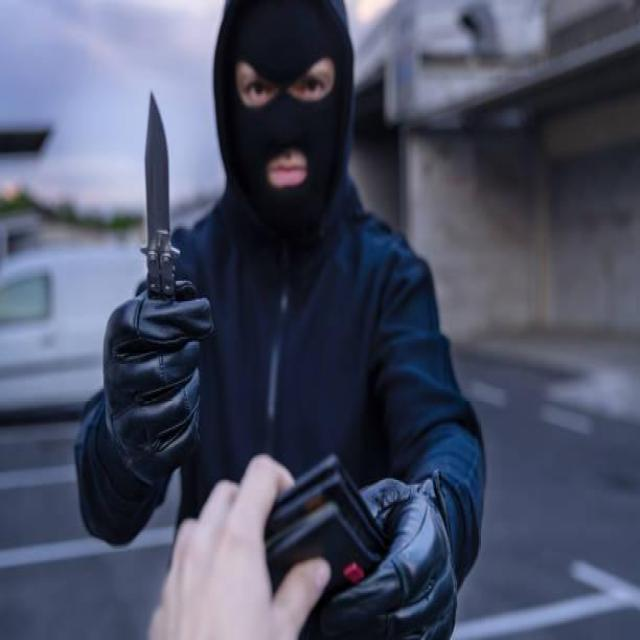faca: (94, 80, 223, 494)
